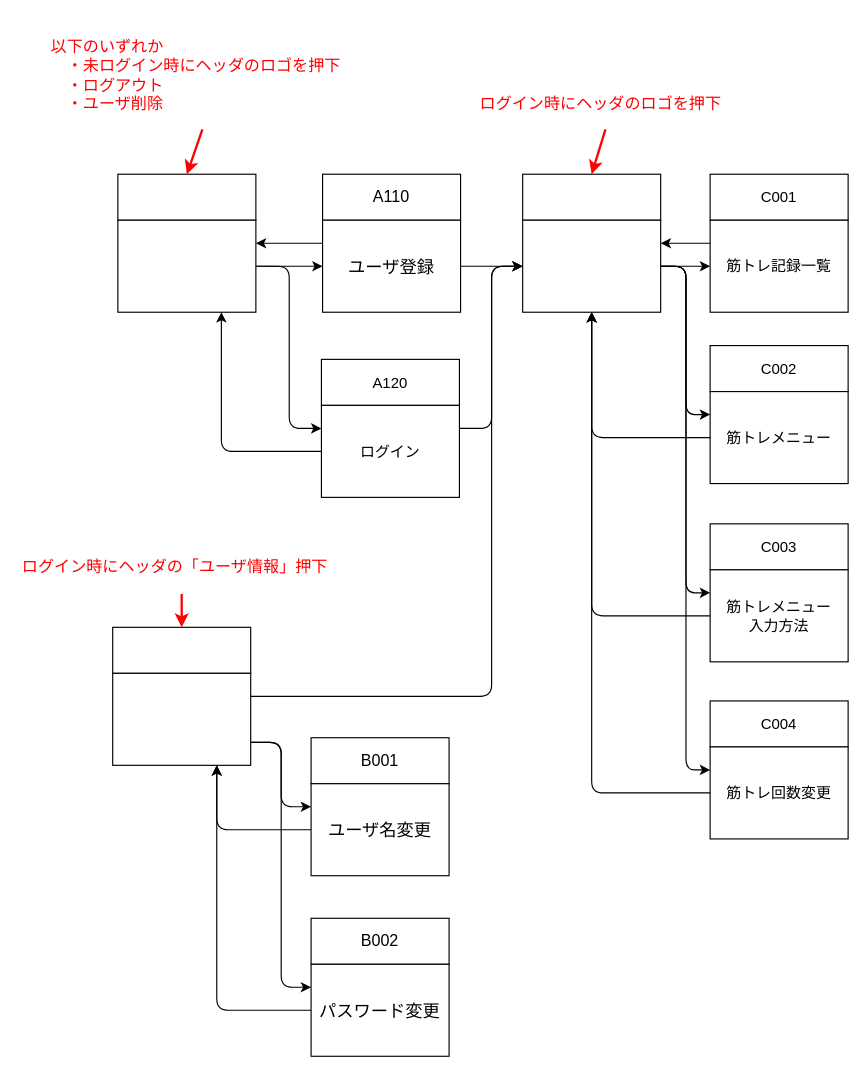
The diagram is 868 pixels wide and 1076 high, and some of its shapes have lost their labels. The shapes that lost their labels are listed below. From the top down, each one's centre as x and y in pixels, then its label:
(x=186, y=196): A100
(x=591, y=196): C000
(x=186, y=265): トップ
(x=591, y=265): ホーム
(x=181, y=649): B000
(x=181, y=718): ユーザ情報
